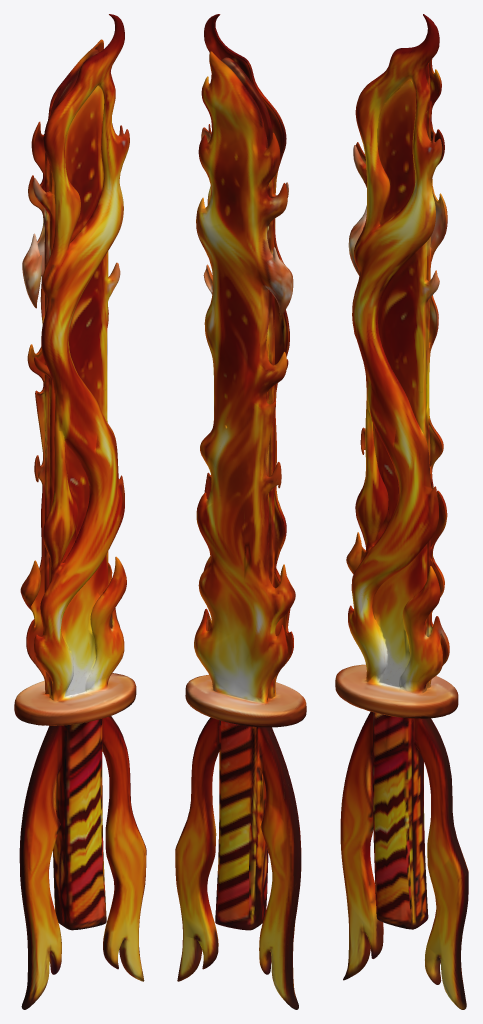
The model's file is sword_fire.glb.
3 views of the same model, side by side, from view 1: azimuth 30°, elevation 25°; view 2: azimuth 150°, elevation 25°; view 3: azimuth 330°, elevation 25° (orthographic).
Parts seen in each view (by area): view 1: node_0; view 2: node_0; view 3: node_0.
Part boxes in pixels (x1,y1,x2,y2): node_0: [14, 14, 146, 1009]; node_0: [175, 14, 306, 1009]; node_0: [335, 14, 468, 1009].
Size of the model in its own units: 0.1615 by 1.19 by 0.0918.
Materials: 1 (1 with a texture image).
